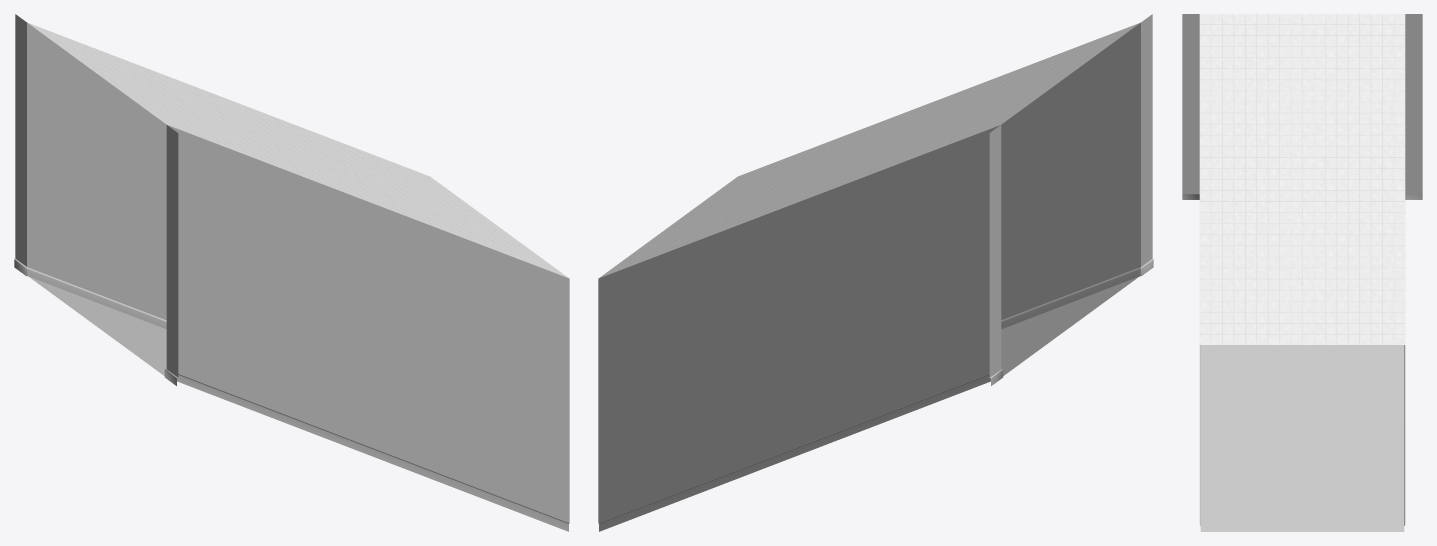
Rendered from SM_Wall_Hallway_Downslide_Entry.fbx.
3 renders of one model, left to right at view 1: azimuth 30°, elevation 25°; view 2: azimuth 150°, elevation 25°; view 3: azimuth 270°, elevation 25°, orthographic. The views are drawn at different scales.
Visible parts, largest first — view 1: SM_Wall_Hallway_Downslide_Entry_LOD0; view 2: SM_Wall_Hallway_Downslide_Entry_LOD0; view 3: SM_Wall_Hallway_Downslide_Entry_LOD0.
Part boxes in pixels (box(x1,y1,x2,y2)): SM_Wall_Hallway_Downslide_Entry_LOD0: box(14, 14, 569, 531); SM_Wall_Hallway_Downslide_Entry_LOD0: box(598, 14, 1153, 531); SM_Wall_Hallway_Downslide_Entry_LOD0: box(1182, 14, 1422, 531).
Bounding box in the file's own units: 502 × 350 × 600.
